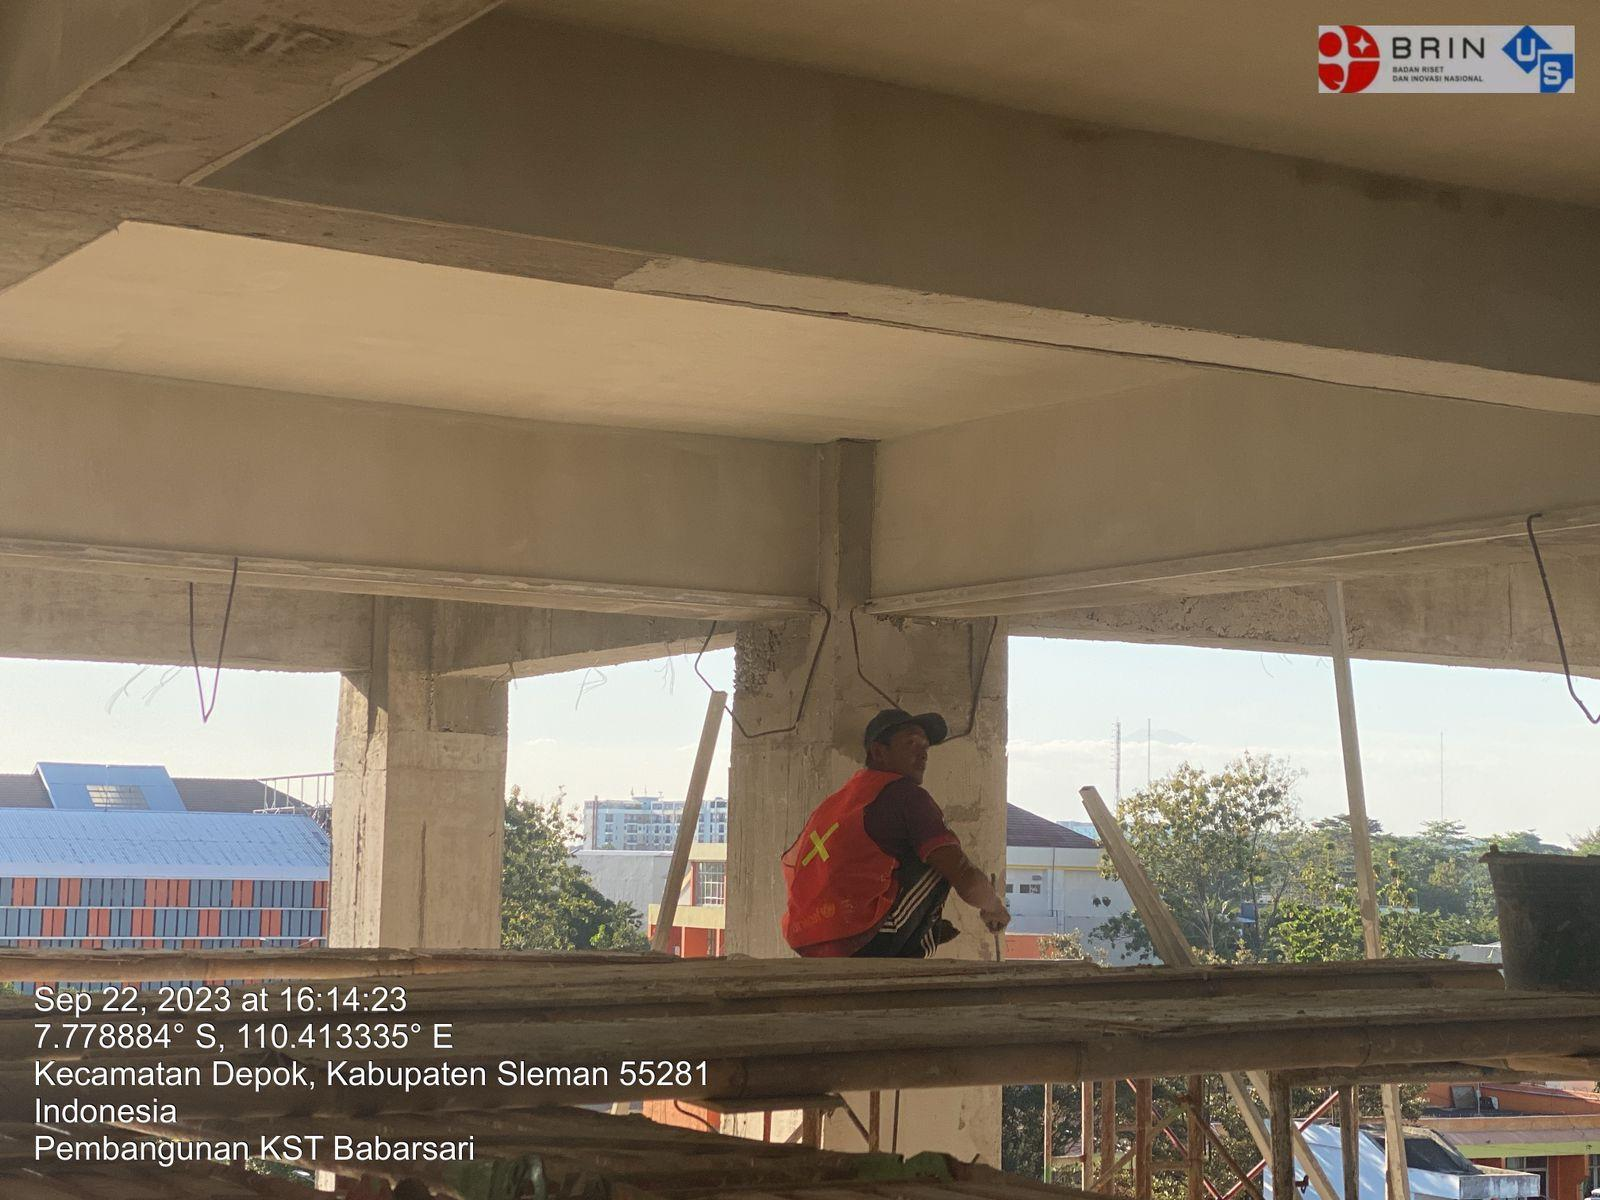no hat: (848, 678, 984, 798)
vest: (784, 761, 923, 978)
